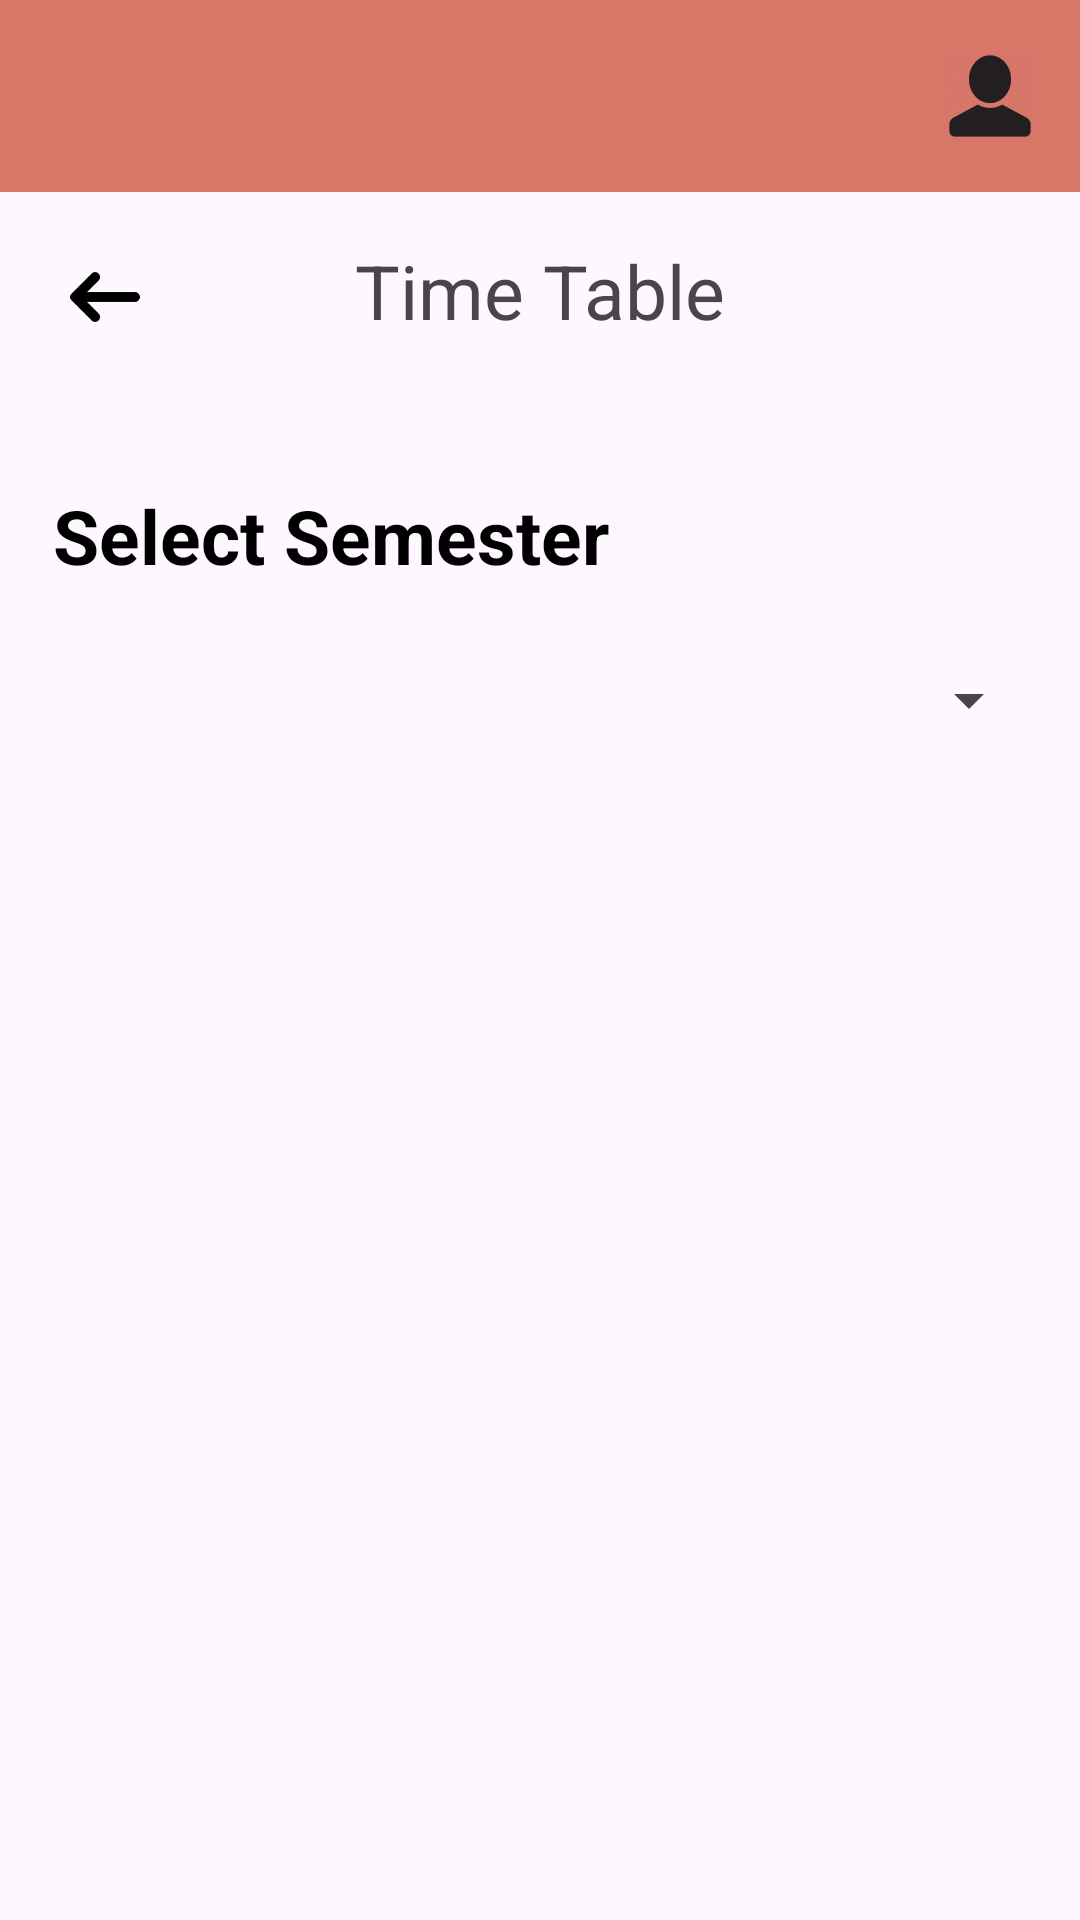

Icon bounding boxes for this 1080×1920 phone screenshot, format (x1, y1, x2, y2):
user profile: (949, 55, 1031, 137)
